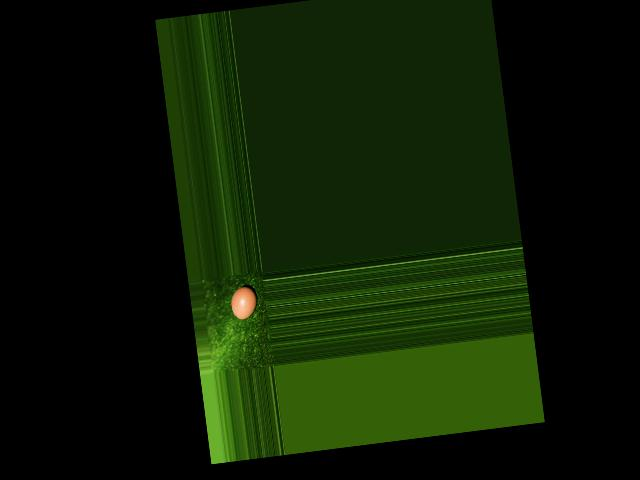egg: (229, 285, 259, 321)
